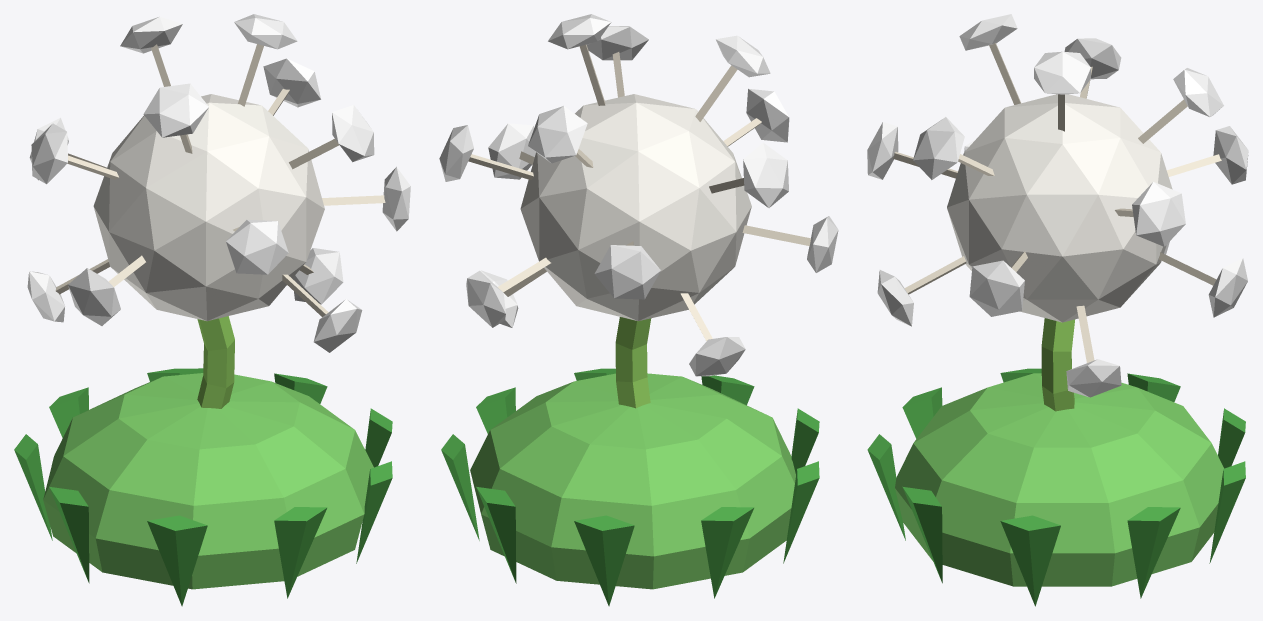
Rendered from dandelion-puff.glb.
3 views of the same model, side by side, from view 1: azimuth 30°, elevation 25°; view 2: azimuth 150°, elevation 25°; view 3: azimuth 270°, elevation 25° (orthographic).
Parts seen in each view (by area): view 1: dandelion-puff; view 2: dandelion-puff; view 3: dandelion-puff.
Part boxes in pixels (x1,y1,x2,y2): dandelion-puff: (14,14,410,606); dandelion-puff: (439,14,838,606); dandelion-puff: (867,14,1248,606).
Size of the model in its own units: 0.1509 by 0.2199 by 0.1483.
